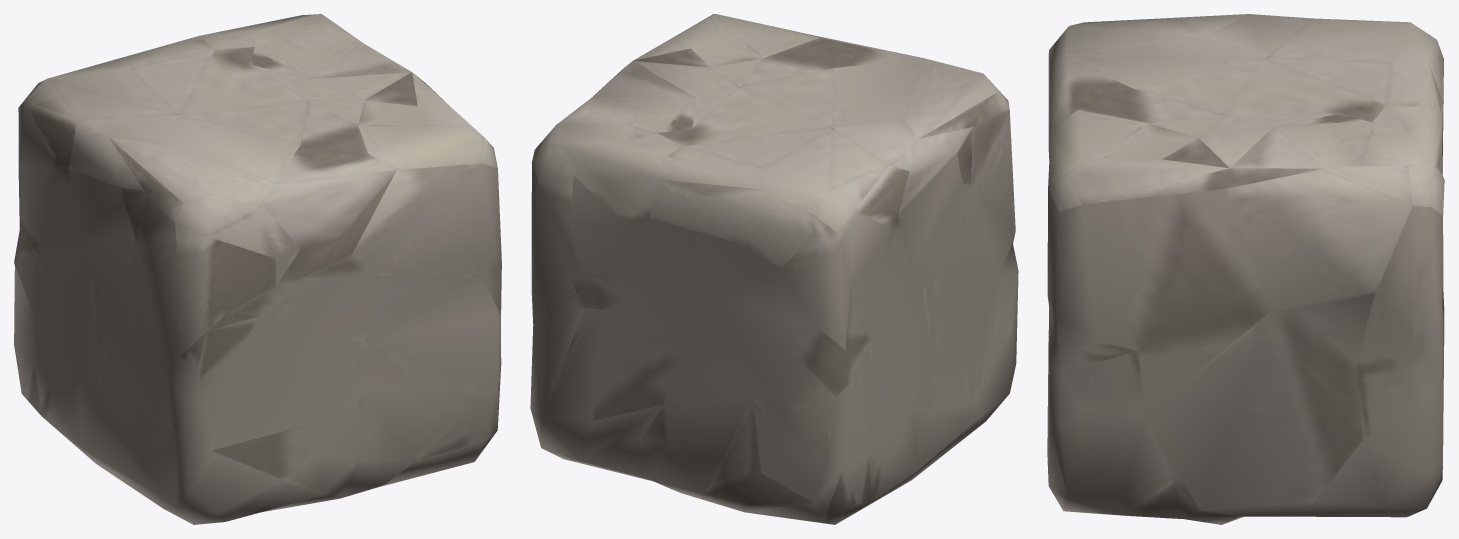
The model's file is rock.glb.
3 renders of one model, left to right at view 1: azimuth 30°, elevation 25°; view 2: azimuth 150°, elevation 25°; view 3: azimuth 270°, elevation 25°, orthographic. The views are drawn at different scales.
Parts seen in each view (by area): view 1: Mesh_0; view 2: Mesh_0; view 3: Mesh_0.
Boxes of the visible parts, x1,y1,x2,y2 form: Mesh_0: (14,14,501,524); Mesh_0: (530,14,1018,524); Mesh_0: (1047,14,1444,524).
Size of the model in its own units: 1 by 0.9983 by 1.01.
Materials: 1 (1 with a texture image).
